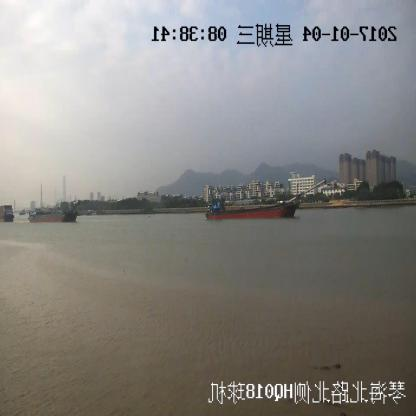Bulk Carrier: (206, 180, 324, 218), (28, 200, 79, 221)
